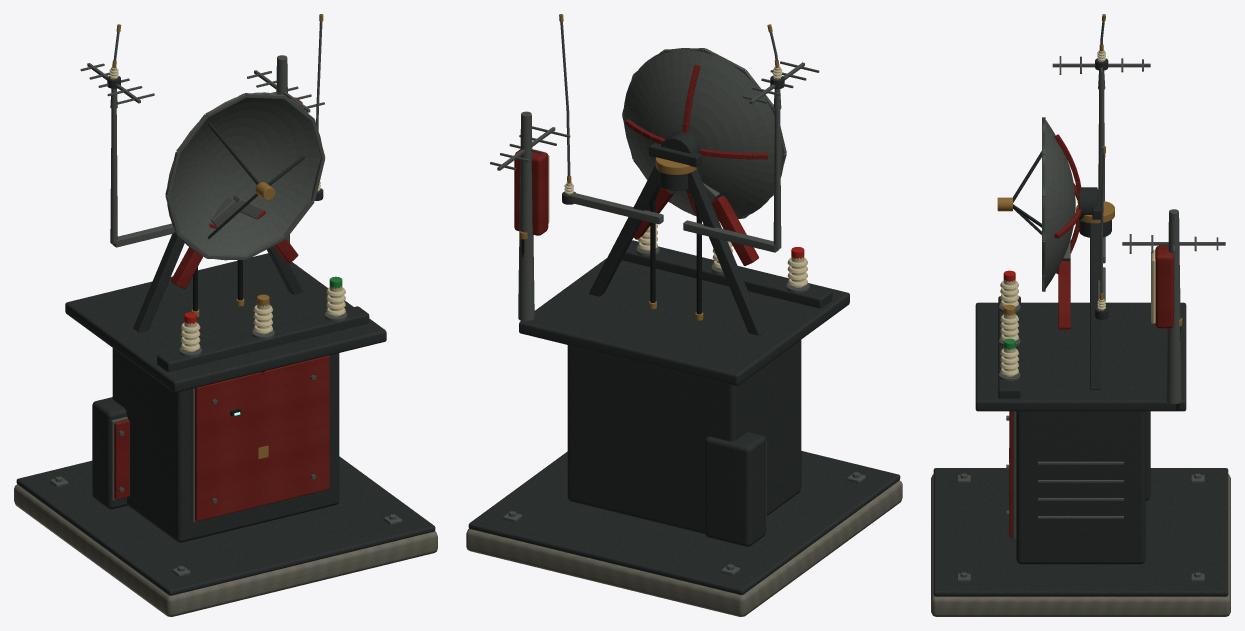
The model's file is comms-3.glb.
3 views of the same model, side by side, from view 1: azimuth 30°, elevation 25°; view 2: azimuth 150°, elevation 25°; view 3: azimuth 270°, elevation 25° (orthographic). The views are drawn at different scales.
Parts seen in each view (by area): view 1: Cast foundation edge, Radio equipment load deck, Red armored service cover, Vox parabolic reflector, Armored electrical cabinet, Ferrocrete ground-contact plinth, Load-bearing power and circuit crossarm, Armored electrical cabinet.001, Vox tower splayed load leg, Red armored service cover.001, Braced radio mast, Gothic load path (+3 smaller); view 2: Armored electrical cabinet, Cast foundation edge, Radio equipment load deck, Vox parabolic reflector, Ferrocrete ground-contact plinth, Armored electrical cabinet.001, Load-bearing power and circuit crossarm, Braced radio mast.002, Vox tower splayed load leg, Sector antenna armored back, Vox tower splayed load leg.001, Gothic load path (+5 smaller); view 3: Cast foundation edge, Armored electrical cabinet, Radio equipment load deck, Ferrocrete ground-contact plinth, Vox parabolic reflector, Braced radio mast.002, Vox tower splayed load leg.001, Sector antenna armored back, Load-bearing power and circuit crossarm, Gothic load path.001, Braced radio mast, Armored electrical cabinet.001 (+3 smaller).
Boxes of the visible parts, box(x1,y1,x2,y2) form: Cast foundation edge: box(16, 456, 435, 595); Radio equipment load deck: box(65, 253, 386, 392); Red armored service cover: box(195, 355, 329, 521); Vox parabolic reflector: box(167, 92, 321, 260); Armored electrical cabinet: box(112, 348, 339, 542); Ferrocrete ground-contact plinth: box(14, 484, 437, 616); Load-bearing power and circuit crossarm: box(157, 306, 369, 371); Armored electrical cabinet.001: box(92, 397, 127, 509); Vox tower splayed load leg: box(133, 232, 184, 332); Red armored service cover.001: box(114, 419, 129, 499); Braced radio mast: box(110, 108, 117, 244); Gothic load path: box(171, 223, 217, 288); Armored electrical cabinet: box(567, 340, 801, 533); Cast foundation edge: box(468, 451, 900, 594); Radio equipment load deck: box(519, 240, 849, 385); Vox parabolic reflector: box(624, 48, 783, 217); Ferrocrete ground-contact plinth: box(466, 480, 902, 616); Armored electrical cabinet.001: box(705, 432, 766, 546); Load-bearing power and circuit crossarm: box(622, 242, 832, 308); Braced radio mast.002: box(518, 111, 534, 320); Vox tower splayed load leg: box(688, 168, 764, 335); Sector antenna armored back: box(514, 149, 548, 235); Vox tower splayed load leg.001: box(589, 165, 659, 296); Gothic load path: box(711, 195, 758, 265); Cast foundation edge: box(933, 468, 1228, 596); Armored electrical cabinet: box(1016, 411, 1145, 564); Radio equipment load deck: box(975, 302, 1186, 411); Ferrocrete ground-contact plinth: box(931, 474, 1230, 616); Vox parabolic reflector: box(1043, 118, 1075, 288); Braced radio mast.002: box(1166, 209, 1181, 404); Vox tower splayed load leg.001: box(1090, 223, 1100, 389); Sector antenna armored back: box(1155, 245, 1173, 328); Load-bearing power and circuit crossarm: box(998, 296, 1020, 398); Gothic load path.001: box(1058, 261, 1070, 329); Braced radio mast: box(1098, 90, 1104, 200); Armored electrical cabinet.001: box(1145, 411, 1150, 500).
Size of the model in its own units: 2.9 by 5.3 by 2.9.
10 materials, 7 textured.
